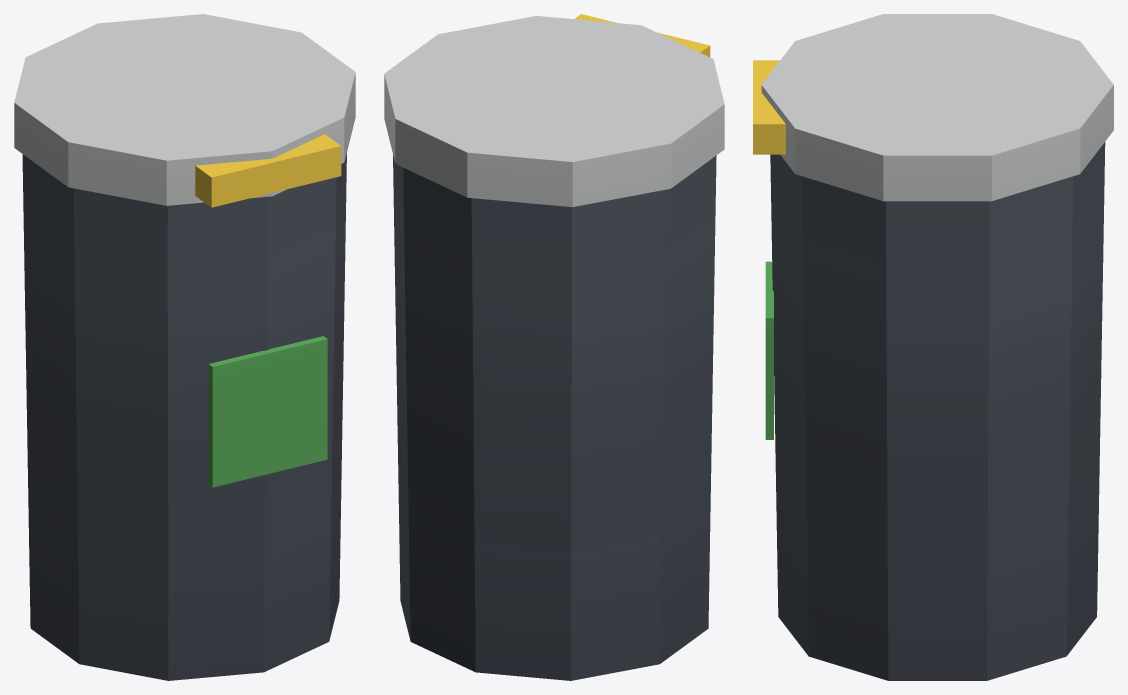
File: Lixeira.fbx
3 renders of one model, left to right at view 1: azimuth 30°, elevation 25°; view 2: azimuth 150°, elevation 25°; view 3: azimuth 270°, elevation 25°, orthographic.
Visible parts, largest first — view 1: Lixeira_Malha; view 2: Lixeira_Malha; view 3: Lixeira_Malha.
Boxes of the visible parts, x1,y1,x2,y2 form: Lixeira_Malha: (14,14,355,680); Lixeira_Malha: (384,14,724,680); Lixeira_Malha: (753,14,1113,680).
Size of the model in its own units: 0.3994 by 0.7 by 0.43.
